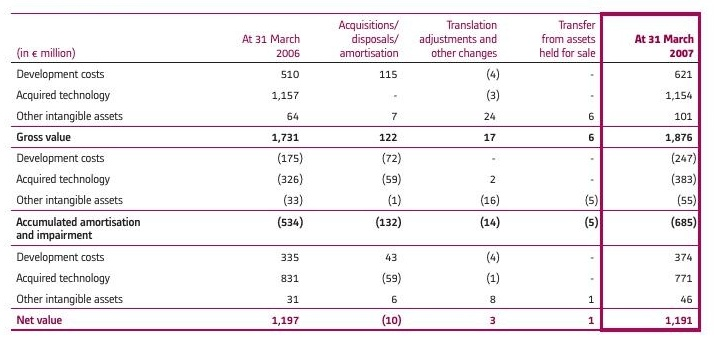table: (0, 0, 714, 343)
